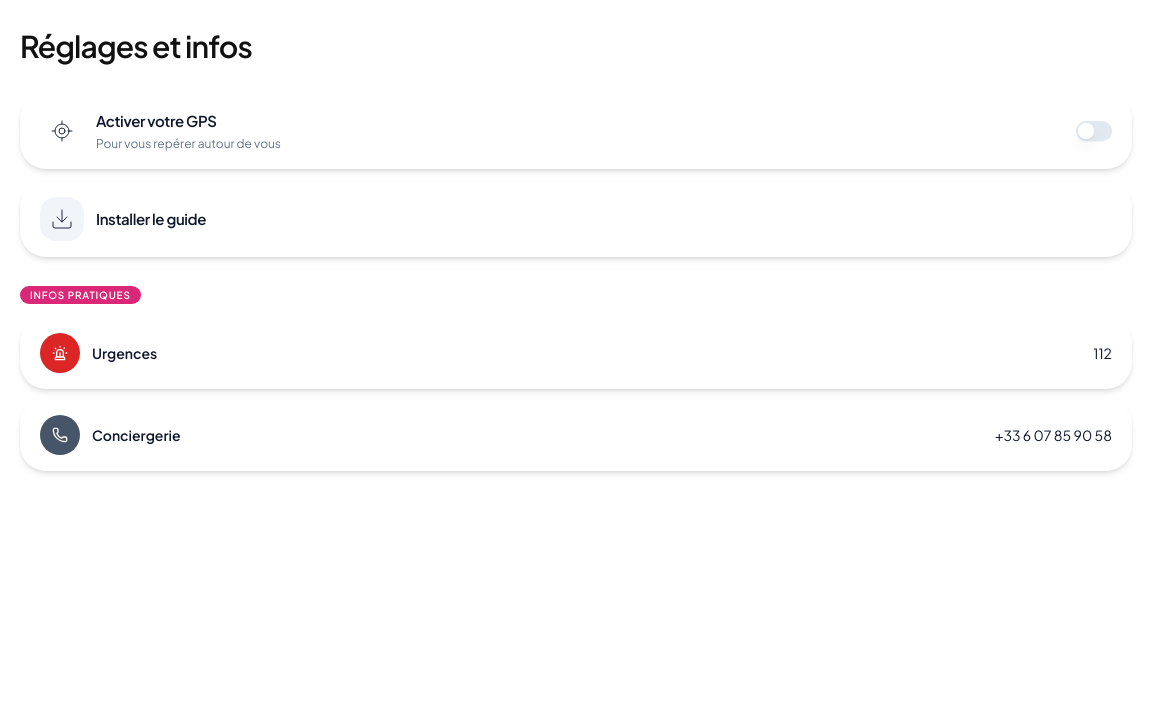
Scenario: A1 AC-01-04: première étape adaptée à Brave sur iPhone
Click the button "Installer le guide": x=62, y=219 [20,181,1132,257]
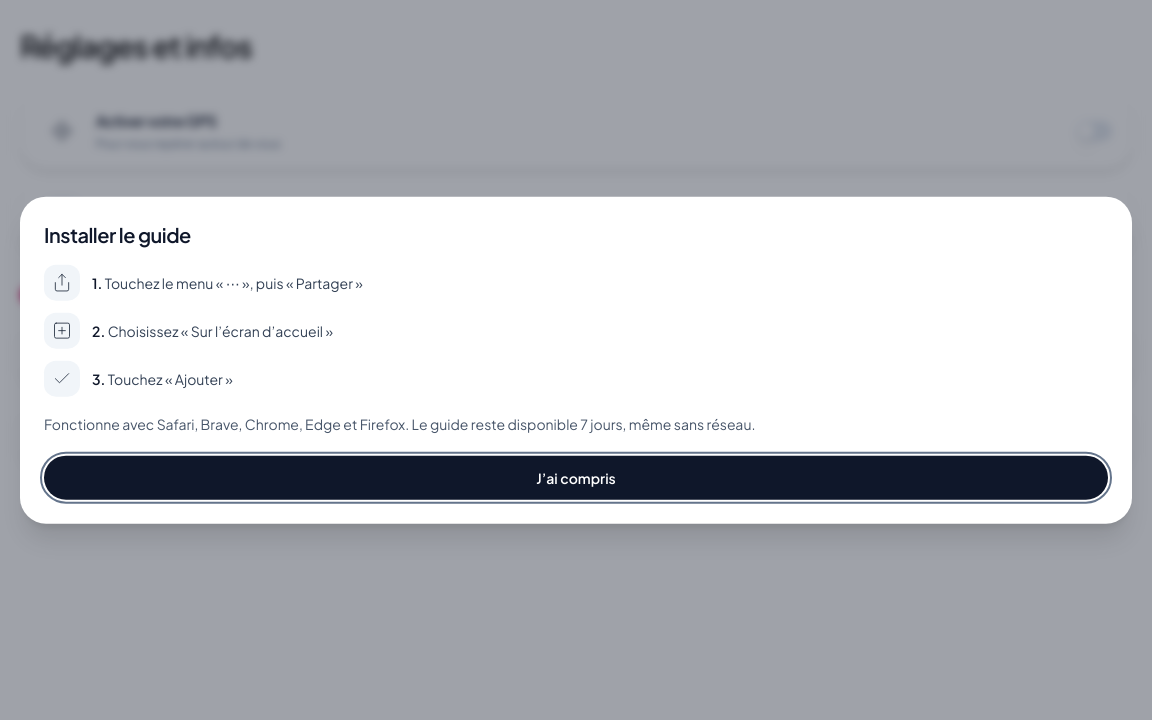
Check: the list item "1. Touchez le menu « ⋯ », puis « Partager »" is shown, box [44,265,363,301]
Check: the list item "2. Choisissez « Sur l’écran d’accueil »" is shown, box [44,313,333,349]
